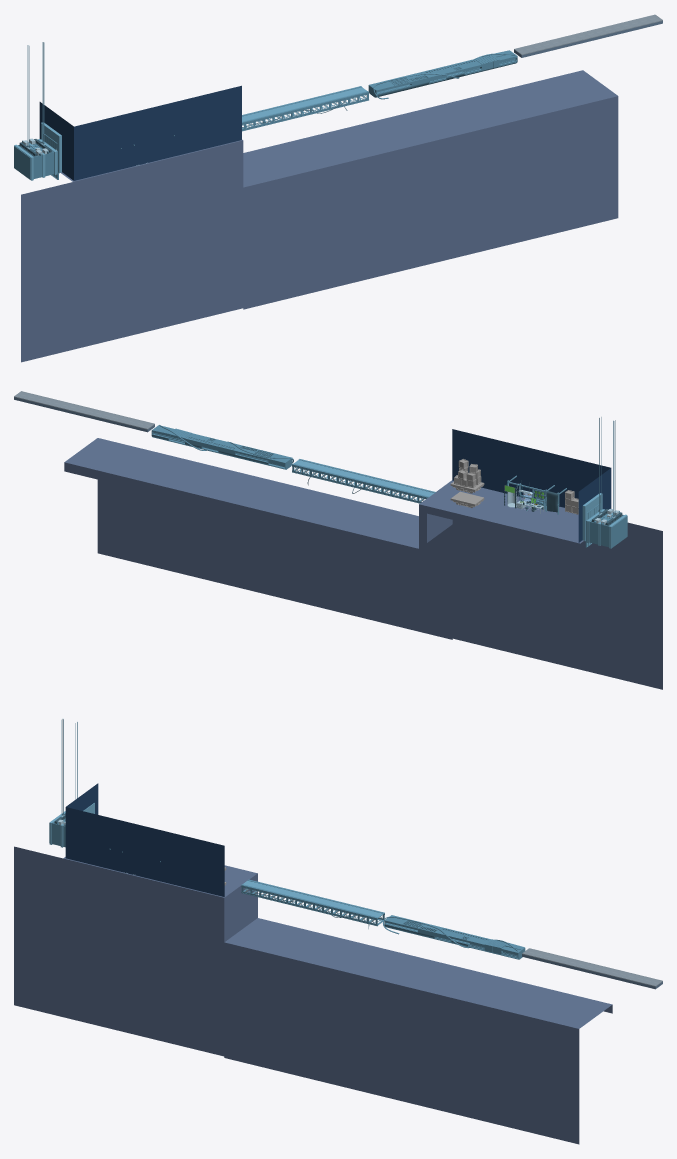
The model's file is Test_Cam_2.fbx.
3 views of the same model, one above another, from view 1: azimuth 30°, elevation 25°; view 2: azimuth 150°, elevation 25°; view 3: azimuth 330°, elevation 25° (orthographic). The views are drawn at different scales.
Visible parts, largest first — view 1: Sol, Elevator, Platform_high2, Platform1_high2, Platform3_high2, pPlane7, pPlane4, pPlane8, pPlane5, pPlane9, pPlane10, pPlane11 (+2 smaller); view 2: Sol, Elevator, Platform1_high2, Platform_high2, Platform3_high2, Workshop_1_op, pPlane9, pPlane8, pPlane7, pPlane10, pPlane6, pPlane11 (+2 smaller); view 3: Sol, Platform1_high2, Platform_high2, Platform3_high2, pPlane11, pPlane7, pPlane4, pPlane5, pPlane6, pPlane9, pPlane8, pPlane10 (+1 smaller).
Boxes of the visible parts, x1=… form: Sol: x1=21, y1=70, x2=618, y2=362; Elevator: x1=14, y1=42, x2=61, y2=180; Platform_high2: x1=368, y1=50, x2=517, y2=99; Platform1_high2: x1=242, y1=86, x2=369, y2=131; Platform3_high2: x1=514, y1=14, x2=662, y2=57; pPlane7: x1=116, y1=111, x2=136, y2=170; pPlane4: x1=74, y1=121, x2=94, y2=180; pPlane8: x1=158, y1=101, x2=178, y2=160; pPlane5: x1=95, y1=116, x2=115, y2=175; pPlane9: x1=179, y1=96, x2=199, y2=155; pPlane10: x1=200, y1=91, x2=220, y2=149; pPlane11: x1=221, y1=85, x2=241, y2=144; Sol: x1=64, y1=438, x2=662, y2=689; Elevator: x1=582, y1=417, x2=627, y2=548; Platform1_high2: x1=292, y1=459, x2=435, y2=503; Platform_high2: x1=151, y1=425, x2=293, y2=469; Platform3_high2: x1=14, y1=391, x2=154, y2=432; Workshop_1_op: x1=504, y1=480, x2=559, y2=514; pPlane9: x1=492, y1=438, x2=511, y2=493; pPlane8: x1=512, y1=443, x2=531, y2=497; pPlane7: x1=551, y1=453, x2=571, y2=507; pPlane10: x1=472, y1=434, x2=491, y2=489; pPlane6: x1=532, y1=448, x2=551, y2=498; pPlane11: x1=452, y1=429, x2=472, y2=480; Sol: x1=14, y1=846, x2=612, y2=1144; Platform1_high2: x1=241, y1=879, x2=384, y2=928; Platform_high2: x1=383, y1=915, x2=525, y2=959; Platform3_high2: x1=522, y1=948, x2=662, y2=989; pPlane11: x1=204, y1=841, x2=224, y2=896; pPlane7: x1=105, y1=816, x2=125, y2=872; pPlane4: x1=65, y1=807, x2=85, y2=862; pPlane5: x1=85, y1=812, x2=105, y2=867; pPlane6: x1=125, y1=821, x2=144, y2=877; pPlane9: x1=165, y1=831, x2=184, y2=887; pPlane8: x1=145, y1=826, x2=164, y2=882; pPlane10: x1=185, y1=836, x2=204, y2=891.
Size of the model in its own units: 9433 by 4027 by 875.
